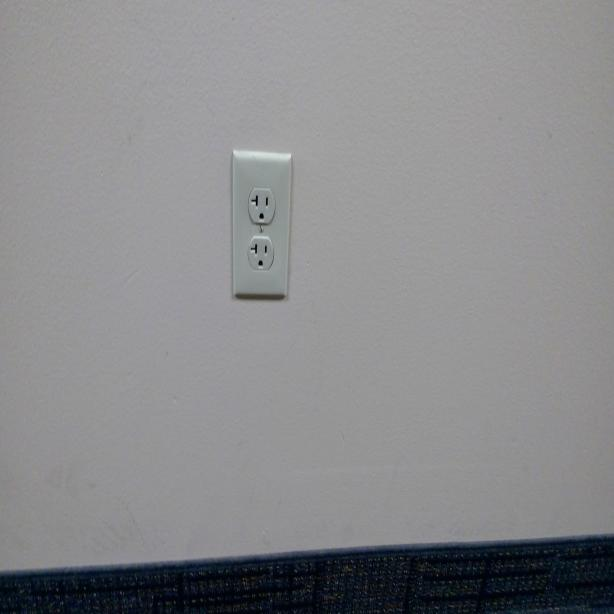typeb: (248, 185, 276, 226), (248, 238, 275, 271)
